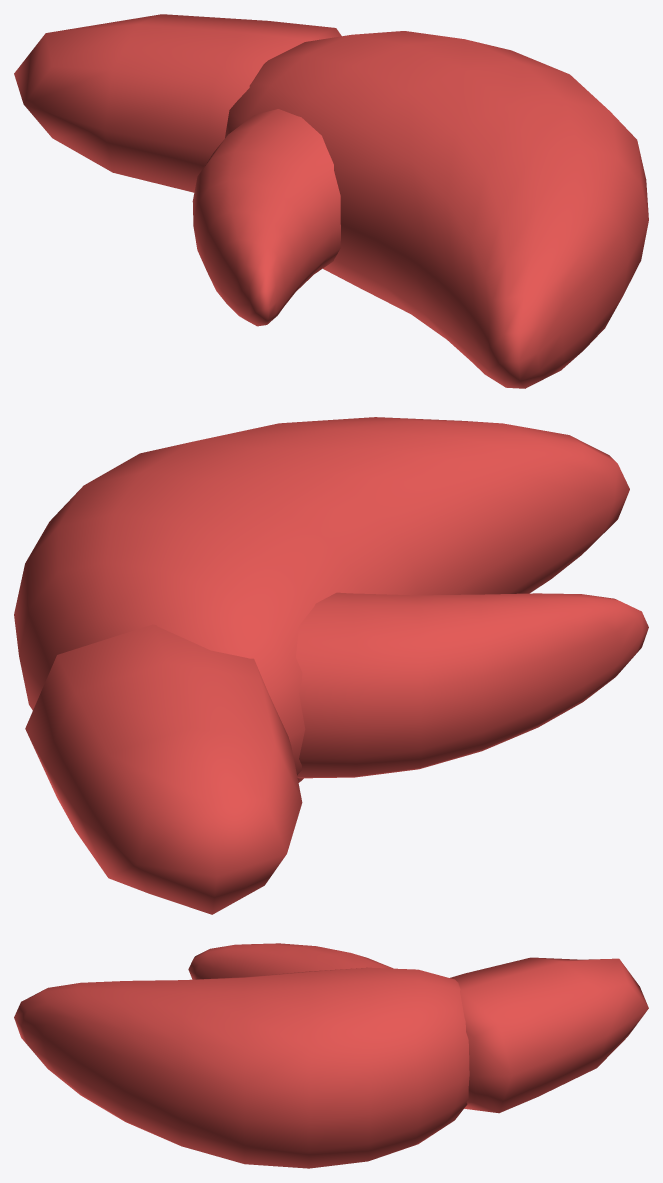
Rendered from Crab_1_Claw_1.fbx.
3 views of the same model, one above another, from view 1: azimuth 30°, elevation 25°; view 2: azimuth 150°, elevation 25°; view 3: azimuth 270°, elevation 25° (orthographic). The views are drawn at different scales.
Visible parts, largest first — view 1: Crab_1_Claw_1; view 2: Crab_1_Claw_1; view 3: Crab_1_Claw_1.
Part boxes in pixels (x1,y1,x2,y2): Crab_1_Claw_1: (14, 14, 648, 388); Crab_1_Claw_1: (14, 417, 648, 914); Crab_1_Claw_1: (14, 943, 648, 1168).
Size of the model in its own units: 12.37 by 6.11 by 21.28.
